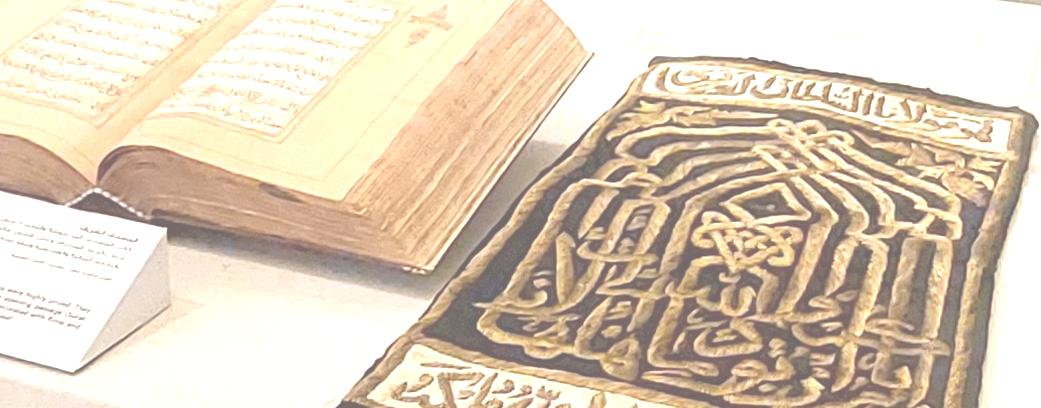The_HolyQuran: (0, 0, 593, 264)
